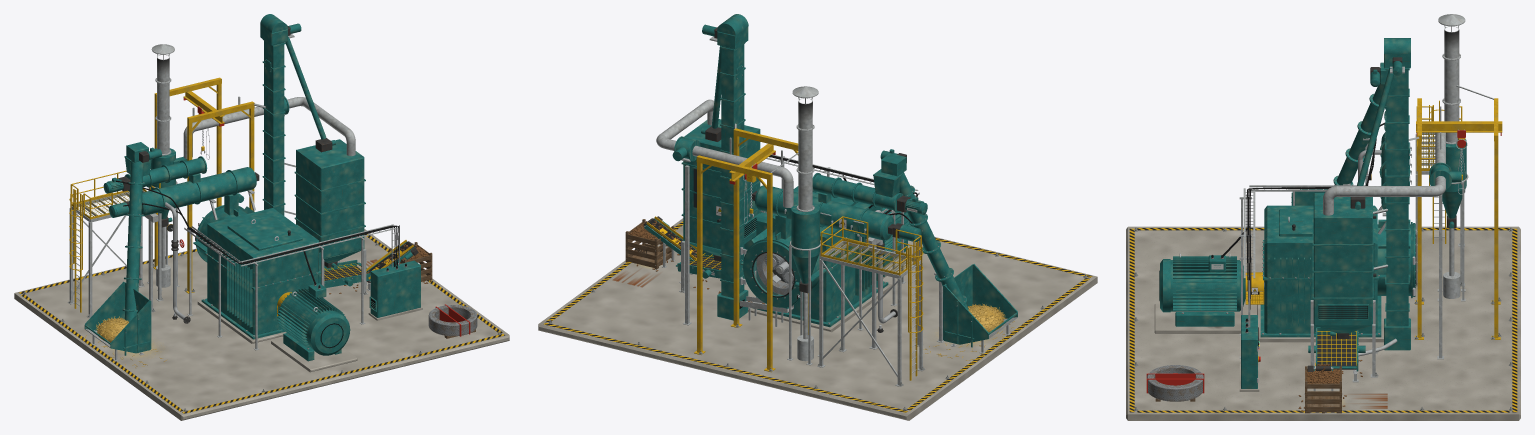
File: PelletMill_v2.glb
The picture shows the model from 3 angles, left to right: view 1: azimuth 30°, elevation 25°; view 2: azimuth 150°, elevation 25°; view 3: azimuth 270°, elevation 25°; orthographic projection. The views are drawn at different scales.
Visible parts, largest first — view 1: PM_Foundation_Concrete, PM_Cooler_Teal, PM_Press_Teal, PM_Infeed_Teal, PM_Conditioner_Teal, PM_Cooler_Galv, PM_Drive_Teal, PM_Hoist_Guard, PM_Controls_Teal, PM_Platform_Galv, PM_Foundation_Hazard, PM_Controls_Galv (+7 smaller); view 2: PM_Foundation_Concrete, PM_Cooler_Teal, PM_Cooler_Galv, PM_Press_Teal, PM_Conditioner_Teal, PM_Infeed_Teal, PM_Hoist_Guard, PM_Platform_Galv, PM_Foundation_Hazard, PM_Platform_Guard, PM_Outfeed_Timber, PM_Controls_Galv (+5 smaller); view 3: PM_Foundation_Concrete, PM_Cooler_Teal, PM_Press_Teal, PM_Cooler_Galv, PM_Drive_Teal, PM_Foundation_Hazard, PM_Hoist_Guard, PM_Infeed_Teal, PM_Controls_Galv, PM_Details_DieSteel, PM_Controls_Teal, PM_Screen_Dark (+12 smaller).
Boxes of the visible parts, x1=… form: PM_Foundation_Concrete: x1=14, y1=229, x2=509, y2=420; PM_Cooler_Teal: x1=150, y1=14, x2=365, y2=268; PM_Press_Teal: x1=193, y1=205, x2=321, y2=339; PM_Infeed_Teal: x1=84, y1=142, x2=161, y2=355; PM_Conditioner_Teal: x1=103, y1=156, x2=256, y2=217; PM_Cooler_Galv: x1=147, y1=34, x2=367, y2=298; PM_Drive_Teal: x1=277, y1=283, x2=350, y2=361; PM_Hoist_Guard: x1=153, y1=77, x2=254, y2=293; PM_Controls_Teal: x1=369, y1=260, x2=420, y2=317; PM_Platform_Galv: x1=67, y1=190, x2=163, y2=318; PM_Foundation_Hazard: x1=19, y1=234, x2=504, y2=413; PM_Controls_Galv: x1=184, y1=224, x2=399, y2=350; PM_Foundation_Concrete: x1=538, y1=218, x2=1097, y2=420; PM_Cooler_Teal: x1=672, y1=14, x2=819, y2=320; PM_Cooler_Galv: x1=656, y1=36, x2=823, y2=365; PM_Press_Teal: x1=740, y1=186, x2=888, y2=327; PM_Conditioner_Teal: x1=755, y1=169, x2=927, y2=242; PM_Infeed_Teal: x1=880, y1=149, x2=1017, y2=347; PM_Hoist_Guard: x1=694, y1=128, x2=808, y2=372; PM_Platform_Galv: x1=817, y1=241, x2=924, y2=386; PM_Foundation_Hazard: x1=543, y1=221, x2=1092, y2=412; PM_Platform_Guard: x1=820, y1=216, x2=923, y2=380; PM_Outfeed_Timber: x1=625, y1=219, x2=674, y2=269; PM_Controls_Galv: x1=766, y1=154, x2=919, y2=330; PM_Foundation_Concrete: x1=1126, y1=226, x2=1520, y2=420; PM_Cooler_Teal: x1=1312, y1=38, x2=1466, y2=350; PM_Press_Teal: x1=1260, y1=205, x2=1415, y2=337; PM_Cooler_Galv: x1=1309, y1=14, x2=1494, y2=377; PM_Drive_Teal: x1=1159, y1=255, x2=1245, y2=326; PM_Foundation_Hazard: x1=1129, y1=228, x2=1517, y2=412; PM_Hoist_Guard: x1=1415, y1=98, x2=1502, y2=339; PM_Infeed_Teal: x1=1291, y1=62, x2=1386, y2=205; PM_Controls_Galv: x1=1239, y1=185, x2=1365, y2=358; PM_Details_DieSteel: x1=1147, y1=365, x2=1203, y2=401; PM_Controls_Teal: x1=1241, y1=315, x2=1257, y2=388; PM_Screen_Dark: x1=1317, y1=334, x2=1356, y2=369.
Bounding box in the file's own units: 18 × 14 × 16.
52 materials, 37 textured.
